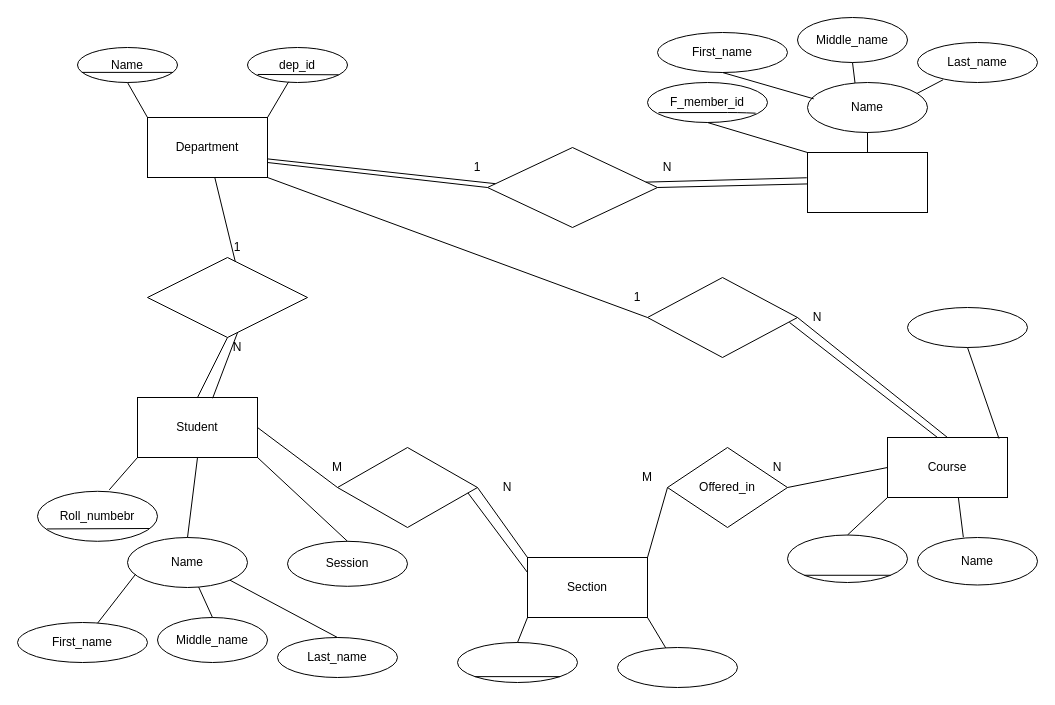
This 1055x705 diagram has some shape labels left out. Each missing label, with the box of its shape:
Capacity: (616, 646, 738, 688)
Course_id: (786, 534, 908, 582)
Credit Hours: (906, 306, 1028, 348)
enrolled_in: (336, 446, 478, 528)
Faculty_Member: (806, 152, 928, 212)
Offered_by: (646, 276, 798, 358)
Section_id: (456, 642, 578, 682)
Student_of: (146, 256, 308, 338)
Works_for: (486, 146, 658, 228)
